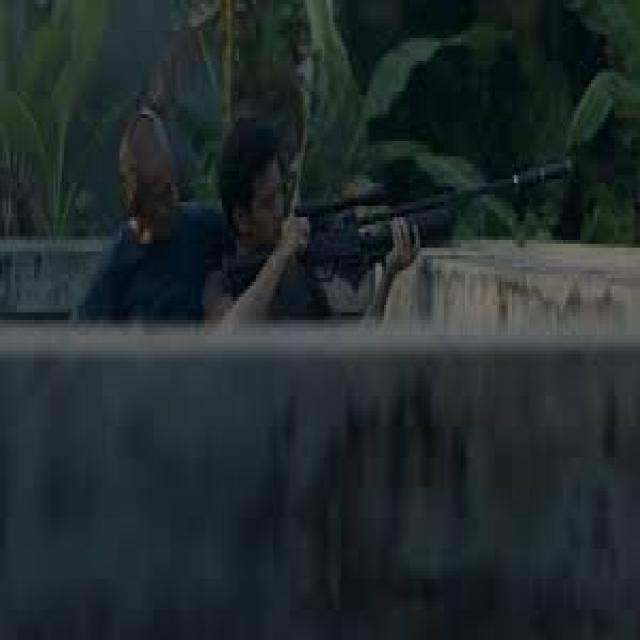weapon: (222, 152, 574, 316)
